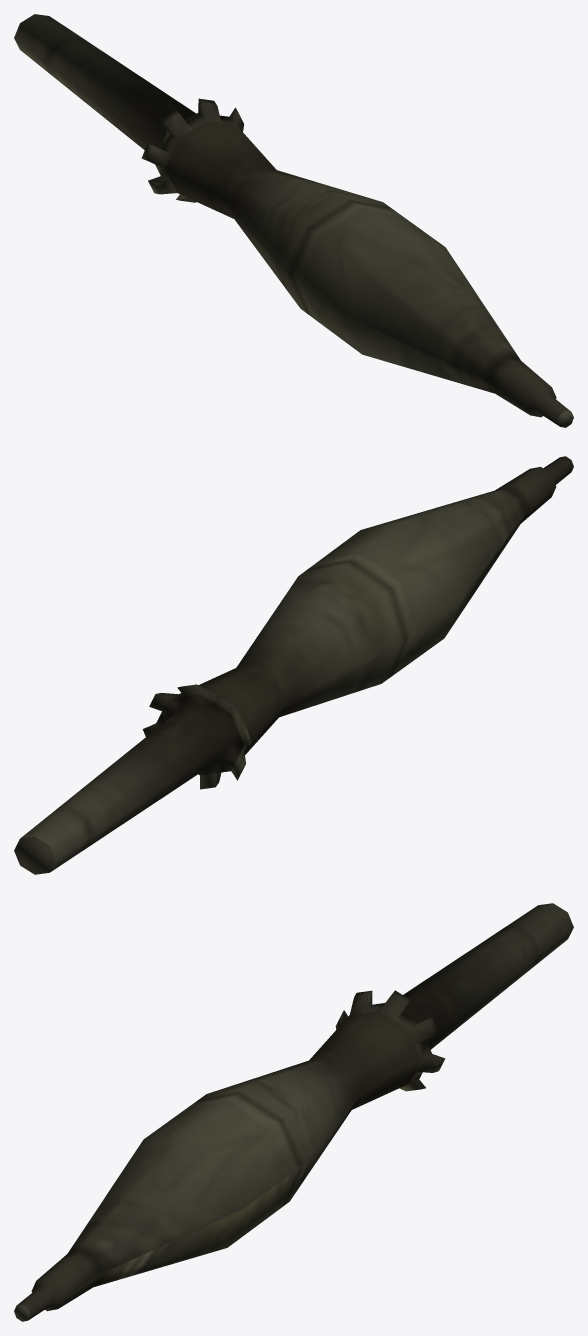
Rendered from rpg_rocket.obj.
The picture shows the model from 3 angles, top to bottom: view 1: azimuth 30°, elevation 25°; view 2: azimuth 150°, elevation 25°; view 3: azimuth 330°, elevation 25°; orthographic projection.
Visible parts, largest first — view 1: RPG7_Rocket; view 2: RPG7_Rocket; view 3: RPG7_Rocket.
Boxes of the visible parts, x1,y1,x2,y2 form: RPG7_Rocket: [14, 14, 573, 427]; RPG7_Rocket: [14, 456, 573, 874]; RPG7_Rocket: [14, 903, 573, 1321].
Bounding box in the file's own units: 0.1231 × 0.1231 × 0.9571.
1 material, 1 textured.
